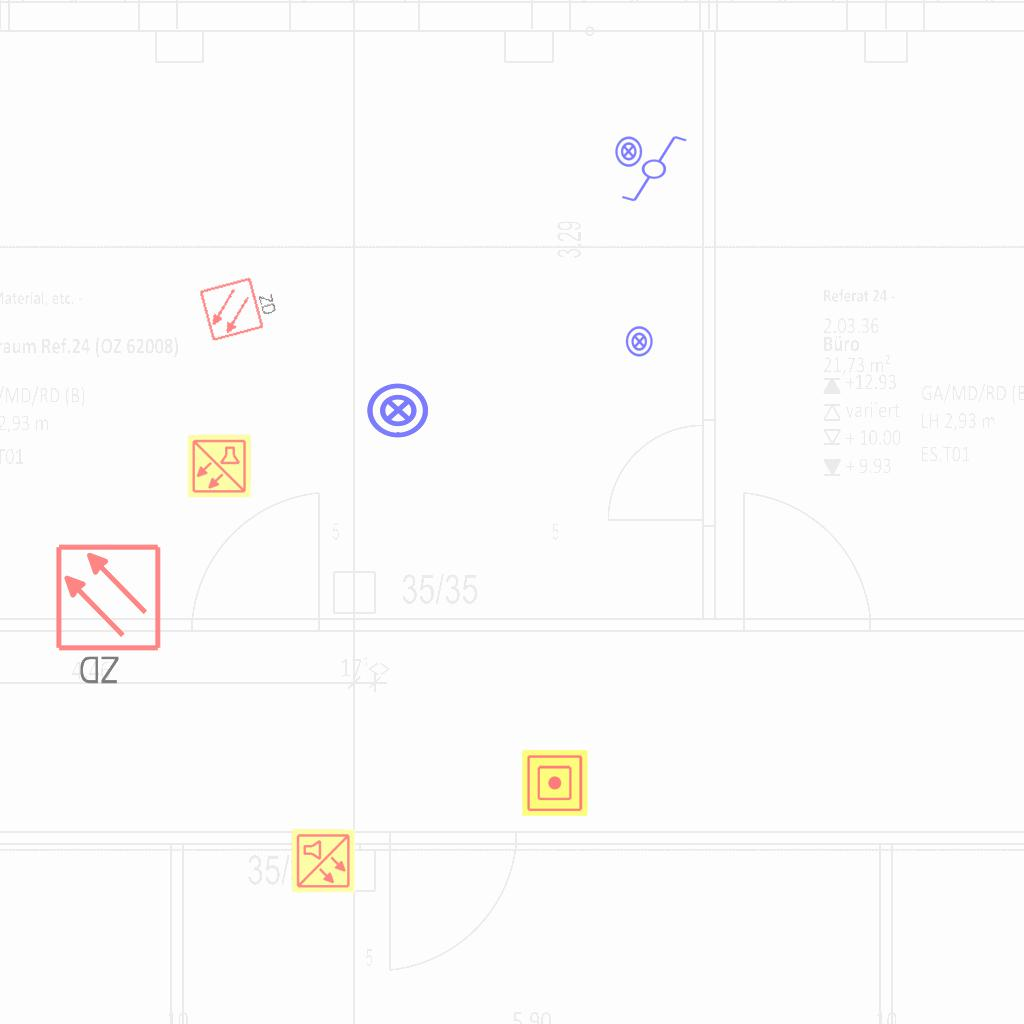NAM-Nichtautomatischer_Melder: (522, 750, 588, 816)
OKW_Multisensormelder_(Kombination_optischer_Rauch-Kahlenmonoxid_Waerme-Melder): (290, 828, 356, 894), (186, 433, 252, 499)
Taster_beleuchtet: (365, 377, 431, 443), (623, 325, 656, 358), (612, 135, 645, 168)
Wechselschalter: (611, 132, 689, 204)
ZD_Melder_in_Zwischendecke_mit_Revisionsoeffnung_mind_40_x_40_cm: (53, 542, 167, 691), (197, 268, 284, 344)
